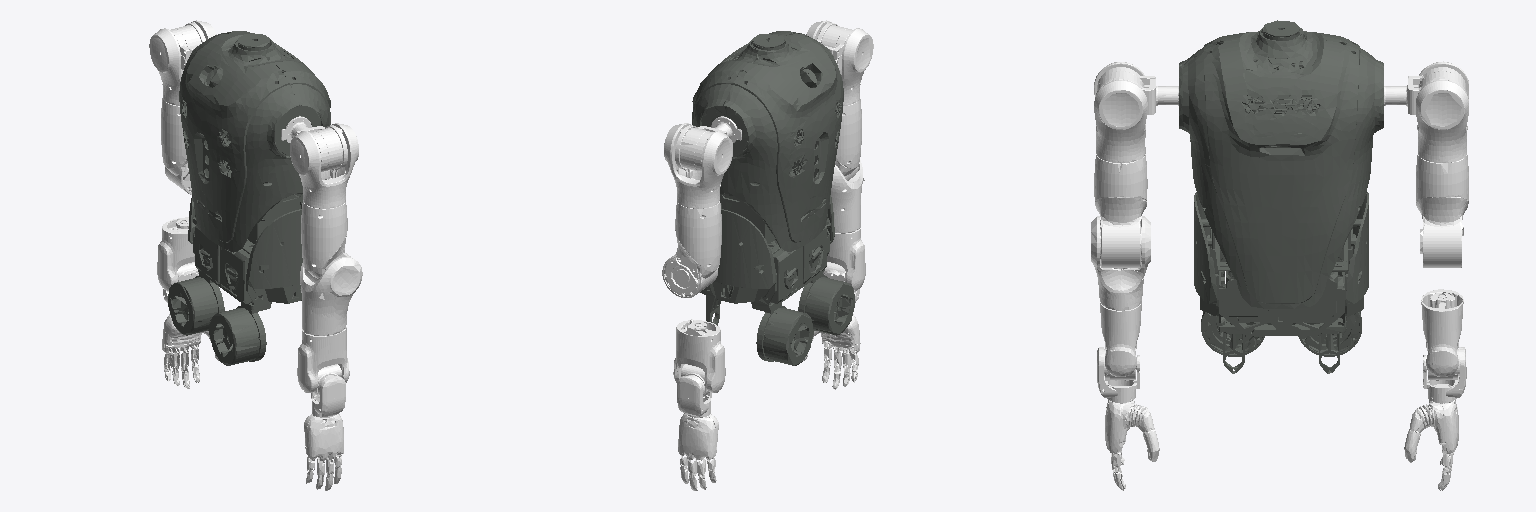
robot.urdf — biped_v3_arm:
<?xml version="1.0" ?>
<!-- =================================================================================== -->
<!-- |    This document was autogenerated by xacro from [local-path]/workspace/kuavo-ros-control/src/humanoid-control/humanoid_interface_drake/models/biped_gen4.0/urdf/biped_v3_arm.xacro | -->
<!-- |    EDITING THIS FILE BY HAND IS NOT RECOMMENDED                                 | -->
<!-- =================================================================================== -->
<robot name="biped_v3_arm" xmlns:drake="https://drake.mit.edu">
  <link name="base_link"/>

  <joint name="base_link_to_torso" type="fixed">
    <parent link="base_link"/>
    <child link="torso"/>
    <origin xyz="0 0 0" rpy="0 0 0"/>
  </joint>
  
  <link name="torso">
    <inertial>
      <origin xyz="-0.00505 0.0014 0.18077" rpy="0 0 0" />
      <mass value="33.6709" />
      <inertia ixx="0.28214" ixy="3e-05" ixz="0.01114" iyy="0.20534" iyz="0.00044" izz="0.13735" />
    </inertial>
    <visual>
      <origin rpy="0 0 0" xyz="0 0 0"/>
      <geometry>
        <mesh filename="../../meshes/torso.STL"/>
      </geometry>
      <material name="">
        <color rgba="0.43137 0.45098 0.43137 1"/>
      </material>
    </visual>
    <!-- <collision>
      <origin xyz="0 0 0" rpy="0 0 0" />
      <geometry>
        <mesh filename="../../meshes/torso.STL" />
      </geometry>
    </collision> -->
  </link>
  <!-- =========================================================== Arms ================================================================= -->
  <link name="zarm_l1_link">
    <inertial>
      <origin xyz="-0.00083 -0.02218 0.00035" rpy="0 0 0" />
      <mass value="0.962" />
      <inertia ixx="0.00225" ixy="-3e-05" ixz="0.0" iyy="0.00099" iyz="-2e-05" izz="0.00227" />
    </inertial>
    <visual>
      <origin xyz="0 0 0" rpy="0 0 0" />
      <geometry>
        <mesh filename="../../meshes/l_arm_pitch.STL" />
      </geometry>
      <material name="">
        <color rgba="1 1 1 1" />
      </material>
    </visual>
  </link>
  <joint name="zarm_l1_joint" type="revolute">
    <origin xyz="-0.017499853 0.29269999999999996 0.4245" rpy="0 0 0" />
    <parent link="torso" />
    <child link="zarm_l1_link" />
    <axis xyz="0 1 0" />
    <limit lower="-3.14159265358979" upper="1.5707963267949" effort="100.0" velocity="41.3433333333333" />
  </joint>
  <transmission type="SimpleTransmission">
    <joint name="zarm_l1_joint" />
    <actuator name="zarm_l1_joint_motor" />
  </transmission>
  <link name="zarm_l2_link">
    <inertial>
      <origin xyz="-0.00791 0.0 -0.04655" rpy="0 0 0" />
      <mass value="0.57" />
      <inertia ixx="0.00163" ixy="0.0" ixz="5e-05" iyy="0.00211" iyz="0.0" izz="0.00122" />
    </inertial>
    <visual>
      <origin xyz="0 0 0" rpy="0 0 0" />
      <geometry>
        <mesh filename="../../meshes/l_arm_roll.STL" />
      </geometry>
      <material name="">
        <color rgba="1 1 1 1" />
      </material>
    </visual>
  </link>
  <joint name="zarm_l2_joint" type="revolute">
    <origin xyz="0 0 0" rpy="0 0 0" />
    <parent link="zarm_l1_link" />
    <child link="zarm_l2_link" />
    <axis xyz="1 0 0" />
    <limit lower="-0.349065850398866" upper="2.0943951023932" effort="50.0" velocity="19.154" />
  </joint>
  <transmission type="SimpleTransmission">
    <joint name="zarm_l2_joint" />
    <actuator name="zarm_l2_joint_motor" />
  </transmission>
  <link name="zarm_l3_link">
    <inertial>
      <origin xyz="0.00628 0.00107 -0.20878" rpy="0 0 0" />
      <mass value="1.65" />
      <inertia ixx="0.00815" ixy="-4e-05" ixz="0.00085" iyy="0.00828" iyz="0.00014" izz="0.00206" />
    </inertial>
    <visual>
      <origin xyz="0 0 0" rpy="0 0 0" />
      <geometry>
        <mesh filename="../../meshes/l_arm_yaw.STL" />
      </geometry>
      <material name="">
        <color rgba="1 1 1 1" />
      </material>
    </visual>
  </link>
  <joint name="zarm_l3_joint" type="revolute">
    <origin xyz="0 0 0" rpy="0 0 0" />
    <parent link="zarm_l2_link" />
    <child link="zarm_l3_link" />
    <axis xyz="0 0 1" />
    <limit lower="-1.5707963267949" upper="1.5707963267949" effort="39.0" velocity="18.84" />
  </joint>
  <transmission type="SimpleTransmission">
    <joint name="zarm_l3_joint" />
    <actuator name="zarm_l3_joint_motor" />
  </transmission>
  <link name="zarm_l4_link">
    <inertial>
      <origin xyz="-0.01611 0.00143 -0.04857" rpy="0 0 0" />
      <mass value="0.429" />
      <inertia ixx="0.00135" ixy="0.0" ixz="-0.0001" iyy="0.00114" iyz="0.0" izz="0.00083" />
    </inertial>
    <visual>
      <origin xyz="0 0 0" rpy="0 0 0" />
      <geometry>
        <mesh filename="../../meshes/l_forearm.STL" />
      </geometry>
      <material name="">
        <color rgba="1 1 1 1" />
      </material>
    </visual>
  </link>
  <joint name="zarm_l4_joint" type="revolute">
    <origin xyz="0.0200000000000006 0 -0.283699999999996" rpy="0 0 0" />
    <parent link="zarm_l3_link" />
    <child link="zarm_l4_link" />
    <axis xyz="0 1 0" />
    <limit lower="-2.61799387799149" upper="0.0" effort="50.0" velocity="18.84" />
  </joint>
  <transmission type="SimpleTransmission">
    <joint name="zarm_l4_joint" />
    <actuator name="zarm_l4_joint_motor" />
  </transmission>
  <link name="zarm_l5_link">
    <inertial>
      <origin xyz="-0.00207 0.00018 -0.05079" rpy="0 0 0" />
      <mass value="0.61" />
      <inertia ixx="0.00107" ixy="0.0" ixz="-4e-05" iyy="0.00146" iyz="0.0" izz="0.00083" />
    </inertial>
    <visual>
      <origin xyz="0 0 0" rpy="0 0 0" />
      <geometry>
        <mesh filename="../../meshes/l_hand_yaw.STL" />
      </geometry>
      <material name="">
        <color rgba="1 1 1 1" />
      </material>
    </visual>
  </link>
  <joint name="zarm_l5_joint" type="revolute">
    <origin xyz="-0.0200000000000025 0 -0.127037274261591" rpy="0 0 0" />
    <parent link="zarm_l4_link" />
    <child link="zarm_l5_link" />
    <axis xyz="0 0 1" />
    <limit lower="-1.5707963267949" upper="1.5707963267949" effort="12.0" velocity="21.666" />
  </joint>
  <transmission type="SimpleTransmission">
    <joint name="zarm_l5_joint" />
    <actuator name="zarm_l5_joint_motor" />
  </transmission>
  <link name="zarm_l6_link">
    <inertial>
      <origin xyz="-0.00111 0.00335 -0.01335" rpy="0 0 0" />
      <mass value="0.331" />
      <inertia ixx="0.00022" ixy="0.0" ixz="0.0" iyy="0.00027" iyz="0.0" izz="0.00028" />
    </inertial>
    <visual>
      <origin xyz="0 0 0" rpy="0 0 0" />
      <geometry>
        <mesh filename="../../meshes/l_hand_roll.STL" />
      </geometry>
      <material name="">
        <color rgba="1 1 1 1" />
      </material>
    </visual>
  </link>
  <joint name="zarm_l6_joint" type="revolute">
    <origin xyz="0.000199999999999079 0 -0.106462725738415" rpy="0 0 0" />
    <parent link="zarm_l5_link" />
    <child link="zarm_l6_link" />
    <axis xyz="1 0 0" />
    <limit lower="-1.30899693899575" upper="0.698131700797732" effort="12.0" velocity="21.666" />
  </joint>
  <transmission type="SimpleTransmission">
    <joint name="zarm_l6_joint" />
    <actuator name="zarm_l6_joint_motor" />
  </transmission>
  <link name="zarm_l7_link">
    <inertial>
      <origin xyz="0.00186 0.01014 -0.09044" rpy="0 0 0" />
      <mass value="0.64" />
      <inertia ixx="0.00071" ixy="1e-05" ixz="2e-05" iyy="0.0007" iyz="-4e-05" izz="0.00012" />
    </inertial>
    <visual>
      <origin xyz="0 0 0" rpy="0 0 0" />
      <geometry>
        <mesh filename="../../meshes/l_hand_pitch.STL" />
      </geometry>
      <material name="">
        <color rgba="1 1 1 1" />
      </material>
    </visual>
  </link>
  <joint name="zarm_l7_joint" type="revolute">
    <origin xyz="0 0 -0.0210004653879916" rpy="0 0 0" />
    <parent link="zarm_l6_link" />
    <child link="zarm_l7_link" />
    <axis xyz="0 1 0" />
    <limit lower="-0.698131700797732" upper="0.698131700797732" effort="12.0" velocity="21.666" />
  </joint>
  <transmission type="SimpleTransmission">
    <joint name="zarm_l7_joint" />
    <actuator name="zarm_l7_joint_motor" />
  </transmission>
  <!-- right arm -->
  <link name="zarm_r1_link">
    <inertial>
      <origin xyz="-0.00083 0.02218 0.00035" rpy="0 0 0" />
      <mass value="0.962" />
      <inertia ixx="0.00225" ixy="3e-05" ixz="0.0" iyy="0.00099" iyz="2e-05" izz="0.00227" />
    </inertial>
    <visual>
      <origin xyz="0 0 0" rpy="0 0 0" />
      <geometry>
        <mesh filename="../../meshes/r_arm_pitch.STL" />
      </geometry>
      <material name="">
        <color rgba="1 1 1 1" />
      </material>
    </visual>
  </link>
  <joint name="zarm_r1_joint" type="revolute">
    <origin xyz="-0.017499853 -0.29269999999999996 0.4245" rpy="0 0 0" />
    <parent link="torso" />
    <child link="zarm_r1_link" />
    <axis xyz="0 1 0" />
    <limit lower="-3.14159265358979" upper="1.5707963267949" effort="100.0" velocity="41.3433333333333" />
  </joint>
  <transmission type="SimpleTransmission">
    <joint name="zarm_r1_joint" />
    <actuator name="zarm_r1_joint_motor" />
  </transmission>
  <link name="zarm_r2_link">
    <inertial>
      <origin xyz="-0.00791 0.0 -0.04655" rpy="0 0 0" />
      <mass value="0.57" />
      <inertia ixx="0.00163" ixy="0.0" ixz="5e-05" iyy="0.00211" iyz="0.0" izz="0.00122" />
    </inertial>
    <visual>
      <origin xyz="0 0 0" rpy="0 0 0" />
      <geometry>
        <mesh filename="../../meshes/r_arm_roll.STL" />
      </geometry>
      <material name="">
        <color rgba="1 1 1 1" />
      </material>
    </visual>
  </link>
  <joint name="zarm_r2_joint" type="revolute">
    <origin xyz="0 0 0" rpy="0 0 0" />
    <parent link="zarm_r1_link" />
    <child link="zarm_r2_link" />
    <axis xyz="1 0 0" />
    <limit lower="-2.0943951023932" upper="0.349065850398866" effort="50.0" velocity="19.154" />
  </joint>
  <transmission type="SimpleTransmission">
    <joint name="zarm_r2_joint" />
    <actuator name="zarm_r2_joint_motor" />
  </transmission>
  <link name="zarm_r3_link">
    <inertial>
      <origin xyz="0.00628 -0.00107 -0.20878" rpy="0 0 0" />
      <mass value="1.65" />
      <inertia ixx="0.00815" ixy="4e-05" ixz="0.00085" iyy="0.00828" iyz="-0.00014" izz="0.00206" />
    </inertial>
    <visual>
      <origin xyz="0 0 0" rpy="0 0 0" />
      <geometry>
        <mesh filename="../../meshes/r_arm_yaw.STL" />
      </geometry>
      <material name="">
        <color rgba="1 1 1 1" />
      </material>
    </visual>
  </link>
  <joint name="zarm_r3_joint" type="revolute">
    <origin xyz="0 0 0" rpy="0 0 0" />
    <parent link="zarm_r2_link" />
    <child link="zarm_r3_link" />
    <axis xyz="0 0 1" />
    <limit lower="-1.5707963267949" upper="1.5707963267949" effort="39.0" velocity="18.84" />
  </joint>
  <transmission type="SimpleTransmission">
    <joint name="zarm_r3_joint" />
    <actuator name="zarm_r3_joint_motor" />
  </transmission>
  <link name="zarm_r4_link">
    <inertial>
      <origin xyz="-0.01611 -0.00143 -0.04857" rpy="0 0 0" />
      <mass value="0.429" />
      <inertia ixx="0.00135" ixy="0.0" ixz="-0.0001" iyy="0.00114" iyz="0.0" izz="0.00083" />
    </inertial>
    <visual>
      <origin xyz="0 0 0" rpy="0 0 0" />
      <geometry>
        <mesh filename="../../meshes/r_forearm.STL" />
      </geometry>
      <material name="">
        <color rgba="1 1 1 1" />
      </material>
    </visual>
  </link>
  <joint name="zarm_r4_joint" type="revolute">
    <origin xyz="0.0200000000000024 0 -0.2837" rpy="0 0 0" />
    <parent link="zarm_r3_link" />
    <child link="zarm_r4_link" />
    <axis xyz="0 1 0" />
    <limit lower="-2.61799387799149" upper="0.0" effort="50.0" velocity="18.84" />
  </joint>
  <transmission type="SimpleTransmission">
    <joint name="zarm_r4_joint" />
    <actuator name="zarm_r4_joint_motor" />
  </transmission>
  <link name="zarm_r5_link">
    <inertial>
      <origin xyz="-0.00207 -0.00018 -0.05079" rpy="0 0 0" />
      <mass value="0.61" />
      <inertia ixx="0.00107" ixy="0.0" ixz="-4e-05" iyy="0.00146" iyz="0.0" izz="0.00083" />
    </inertial>
    <visual>
      <origin xyz="0 0 0" rpy="0 0 0" />
      <geometry>
        <mesh filename="../../meshes/r_hand_yaw.STL" />
      </geometry>
      <material name="">
        <color rgba="1 1 1 1" />
      </material>
    </visual>
  </link>
  <joint name="zarm_r5_joint" type="revolute">
    <origin xyz="-0.0200000000000001 0 -0.127037274261587" rpy="0 0 0" />
    <parent link="zarm_r4_link" />
    <child link="zarm_r5_link" />
    <axis xyz="0 0 1" />
    <limit lower="-1.5707963267949" upper="1.5707963267949" effort="12.0" velocity="21.666" />
  </joint>
  <transmission type="SimpleTransmission">
    <joint name="zarm_r5_joint" />
    <actuator name="zarm_r5_joint_motor" />
  </transmission>
  <link name="zarm_r6_link">
    <inertial>
      <origin xyz="-0.00111 -0.00335 -0.01335" rpy="0 0 0" />
      <mass value="0.331" />
      <inertia ixx="0.00022" ixy="0.0" ixz="0.0" iyy="0.00027" iyz="0.0" izz="0.00028" />
    </inertial>
    <visual>
      <origin xyz="0 0 0" rpy="0 0 0" />
      <geometry>
        <mesh filename="../../meshes/r_hand_roll.STL" />
      </geometry>
      <material name="">
        <color rgba="1 1 1 1" />
      </material>
    </visual>
  </link>
  <joint name="zarm_r6_joint" type="revolute">
    <origin xyz="0 0 -0.106462725738415" rpy="0 0 0" />
    <parent link="zarm_r5_link" />
    <child link="zarm_r6_link" />
    <axis xyz="1 0 0" />
    <limit lower="-0.698131700797732" upper="1.30899693899575" effort="12.0" velocity="21.666" />
  </joint>
  <transmission type="SimpleTransmission">
    <joint name="zarm_r6_joint" />
    <actuator name="zarm_r6_joint_motor" />
  </transmission>
  <link name="zarm_r7_link">
    <inertial>
      <origin xyz="0.00186 -0.01014 -0.09044" rpy="0 0 0" />
      <mass value="0.64" />
      <inertia ixx="0.00069" ixy="-1e-05" ixz="2e-05" iyy="0.00068" iyz="5e-05" izz="0.00012" />
    </inertial>
    <visual>
      <origin xyz="0 0 0" rpy="0 0 0" />
      <geometry>
        <mesh filename="../../meshes/r_hand_pitch.STL" />
      </geometry>
      <material name="">
        <color rgba="1 1 1 1" />
      </material>
    </visual>
  </link>
  <joint name="zarm_r7_joint" type="revolute">
    <origin xyz="0 0 -0.0209999999999999" rpy="0 0 0" />
    <parent link="zarm_r6_link" />
    <child link="zarm_r7_link" />
    <axis xyz="0 1 0" />
    <limit lower="-0.698131700797732" upper="0.698131700797732" effort="12.0" velocity="21.666" />
  </joint>
  <transmission type="SimpleTransmission">
    <joint name="zarm_r7_joint" />
    <actuator name="zarm_r7_joint_motor" />
  </transmission>
  <!-- end frame -->
  <!-- <frame link="l_hand_pitch" name="l_hand_sole" xyz="0 0 -0.1" /> -->
  <!-- end frame -->
  <!-- <frame link="r_hand_pitch" name="r_hand_sole" xyz="0 0 -0.1" /> -->
</robot>

--- What the picture shows (computed from the rendered views, not written in the file) ---
The picture shows the robot from 3 angles, left to right: view 1: azimuth 30°, elevation 25°; view 2: azimuth 150°, elevation 25°; view 3: azimuth 270°, elevation 25°; orthographic projection.
Robot: biped_v3_arm — 16 links, 15 joints (14 revolute, 1 fixed); root link base_link; default pose: every joint at zero.
Visible links, largest first — view 1: torso, zarm_r7_link, zarm_r4_link, zarm_r2_link, zarm_r3_link, zarm_r5_link, zarm_l2_link, zarm_l3_link, zarm_l5_link, zarm_l7_link, zarm_r1_link, zarm_l1_link; view 2: torso, zarm_l3_link, zarm_l7_link, zarm_l2_link, zarm_l5_link, zarm_r2_link, zarm_r7_link, zarm_r4_link, zarm_l1_link, zarm_r3_link, zarm_r5_link, zarm_r1_link; view 3: torso, zarm_l3_link, zarm_r3_link, zarm_r2_link, zarm_l2_link, zarm_l7_link, zarm_r7_link, zarm_l5_link, zarm_r4_link, zarm_r5_link, zarm_r1_link, zarm_l1_link.
Link boxes in pixels (x1,y1,x2,y2): torso: (168,31,330,365); zarm_r7_link: (304,376,345,490); zarm_r4_link: (300,257,362,335); zarm_r2_link: (290,123,358,208); zarm_r3_link: (301,202,353,283); zarm_r5_link: (297,327,349,392); zarm_l2_link: (149,20,216,105); zarm_l3_link: (161,98,191,194); zarm_l5_link: (157,217,194,290); zarm_l7_link: (162,289,218,388); zarm_r1_link: (281,116,347,171); zarm_l1_link: (170,22,205,70); torso: (692,31,854,365); zarm_l3_link: (662,201,721,297); zarm_l7_link: (677,376,718,490); zarm_l2_link: (664,123,732,208); zarm_l5_link: (673,319,725,392); zarm_r2_link: (806,20,873,105); zarm_r7_link: (803,289,860,389); zarm_r4_link: (831,160,864,233); zarm_l1_link: (675,116,741,171); zarm_r3_link: (835,99,861,180); zarm_r5_link: (827,227,865,290); zarm_r1_link: (817,22,852,70); torso: (1179,20,1383,373); zarm_l3_link: (1416,155,1468,267); zarm_r3_link: (1094,154,1147,267); zarm_r2_link: (1094,62,1147,162); zarm_l2_link: (1416,61,1468,162); zarm_l7_link: (1404,347,1466,490); zarm_r7_link: (1097,347,1159,490); zarm_l5_link: (1421,289,1463,376); zarm_r4_link: (1091,216,1150,310); zarm_r5_link: (1100,302,1141,376); zarm_r1_link: (1096,67,1178,114); zarm_l1_link: (1384,67,1467,114).
Size in the robot's own frame: 0.2736 by 0.6896 by 0.925 metres.
14 mesh visuals loaded from 15 distinct referenced files (14 binary STL); not drawn: 1 (reference not matched to a file when rendering).